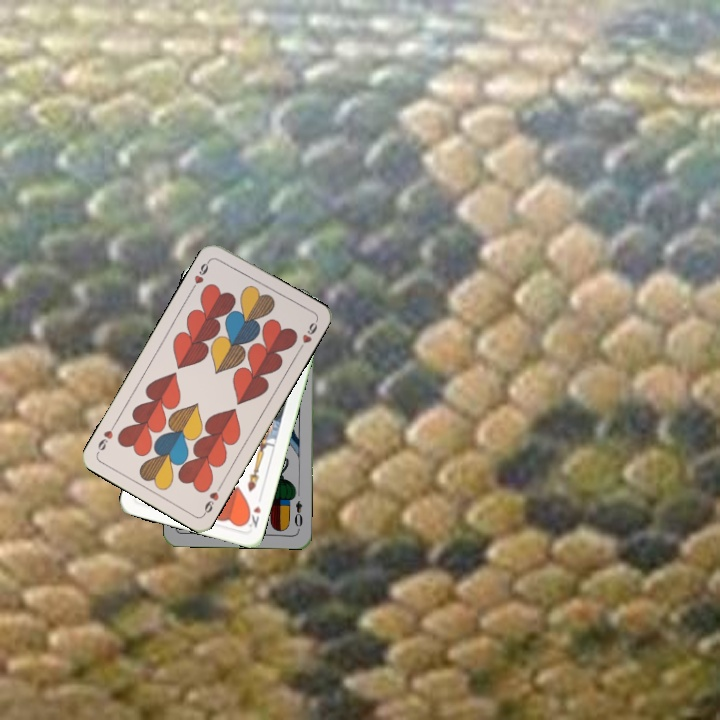EO: (290, 497, 305, 533)
H9: (187, 255, 213, 293), (199, 480, 224, 518)
HK: (241, 502, 264, 530)
